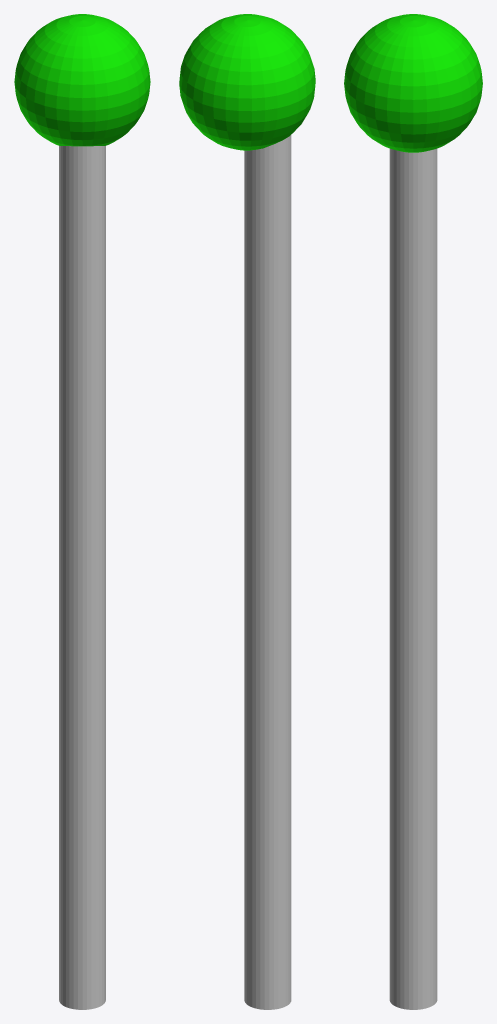
The picture shows the model from 3 angles, left to right: view 1: azimuth 90°, elevation 25°; view 2: azimuth 150°, elevation 25°; view 3: azimuth 270°, elevation 25°; orthographic projection. The views are drawn at different scales.
Parts seen in each view (by area): view 1: Circle.002, Sphere.001; view 2: Circle.002, Sphere.001; view 3: Circle.002, Sphere.001.
Boxes of the visible parts, x1=… form: Circle.002: x1=59, y1=146, x2=105, y2=1009; Sphere.001: x1=14, y1=14, x2=150, y2=146; Circle.002: x1=244, y1=135, x2=291, y2=1009; Sphere.001: x1=179, y1=14, x2=315, y2=150; Circle.002: x1=389, y1=148, x2=437, y2=1009; Sphere.001: x1=344, y1=14, x2=482, y2=152.
Bounding box in the file's own units: 0.1241 × 0.1241 × 0.9752.
